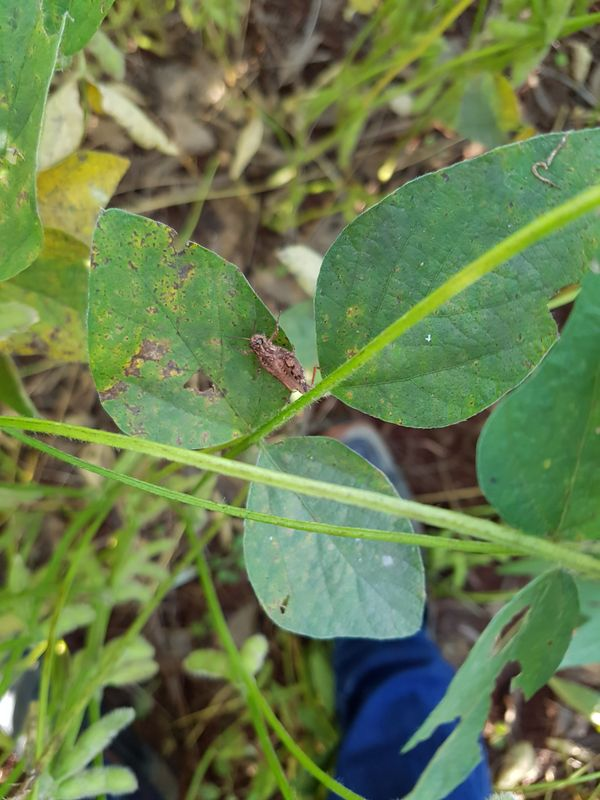Rhammatocerus_schistocercoides: (227, 308, 330, 417)
